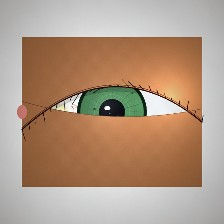pinguecula_lesion: (33, 91, 79, 128)
